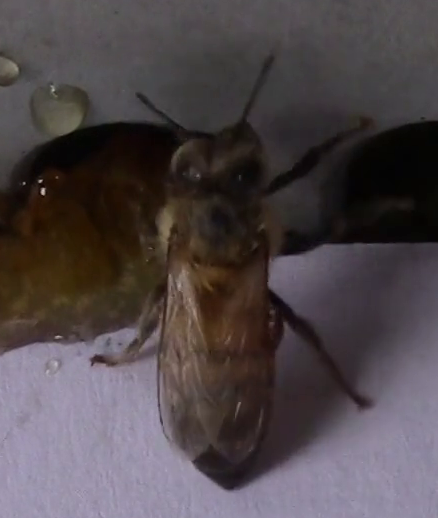Varroa destructor: (265, 300, 284, 359)
